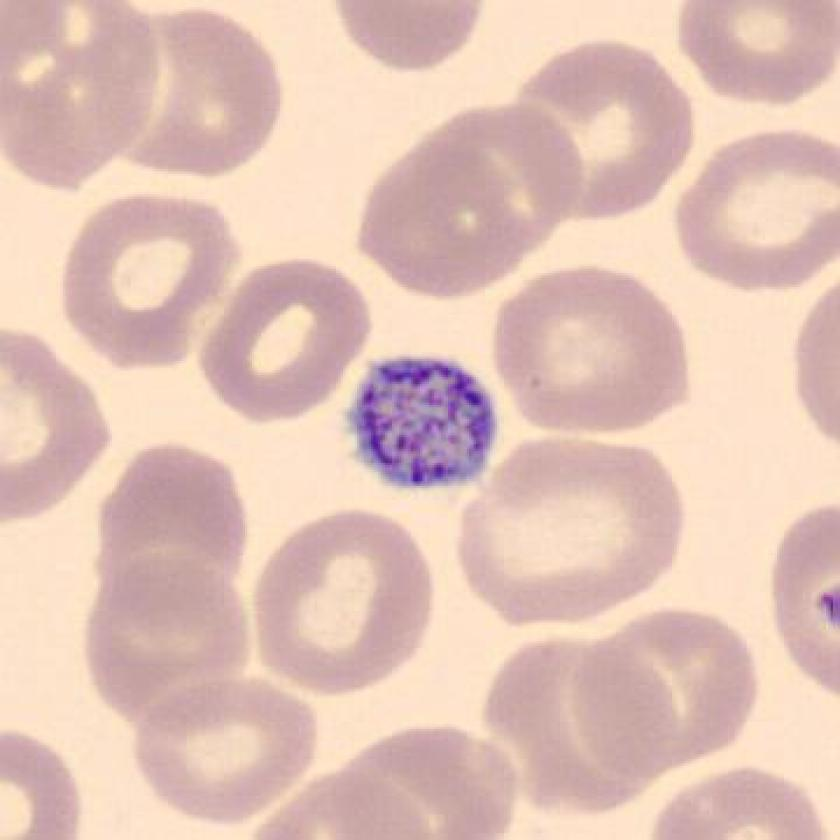platelets: (337, 343, 510, 501)
